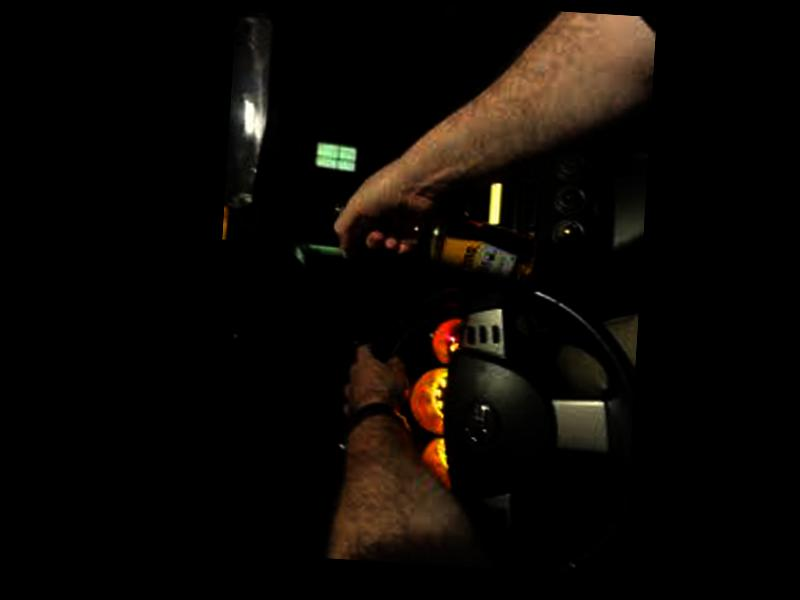Beer: (330, 198, 536, 290)
